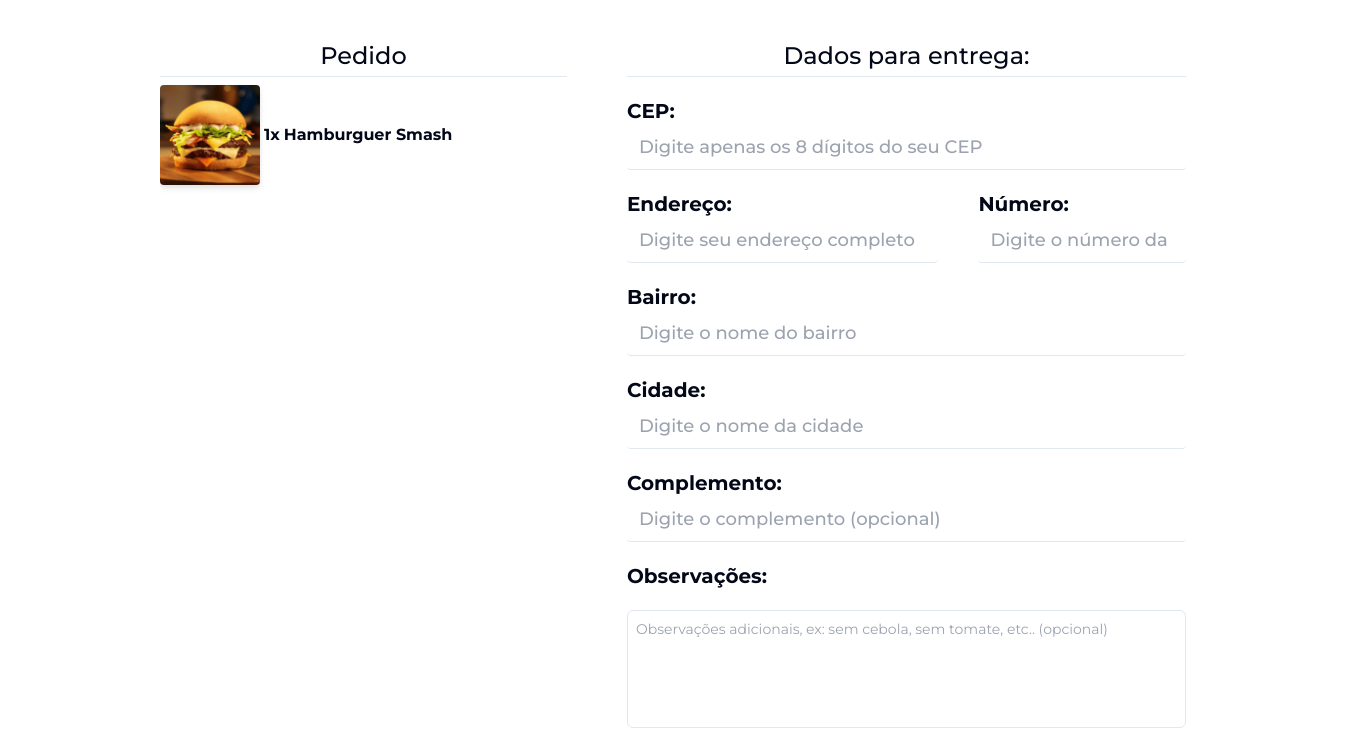
Test case: Delivery Page › should fetch and display delivery data from API when filling the form
In the field named "zipCode": (906,148) [627,125,1186,170], type "01001000"
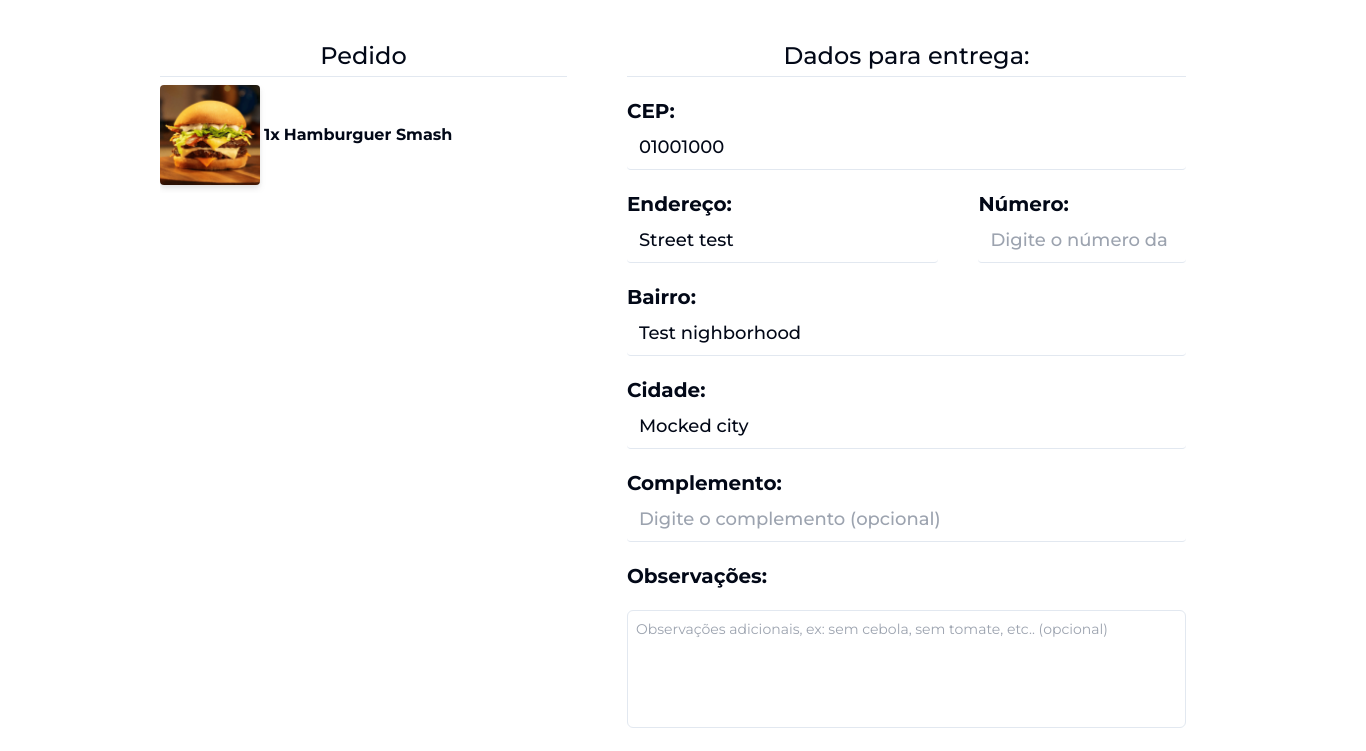
expect the field named "address" holds "Street test": met, box [627,218,938,263]
expect the field named "neighborhood" holds "Test nighborhood": met, box [627,311,1186,356]
expect the field named "city" holds "Mocked city": met, box [627,404,1186,449]
